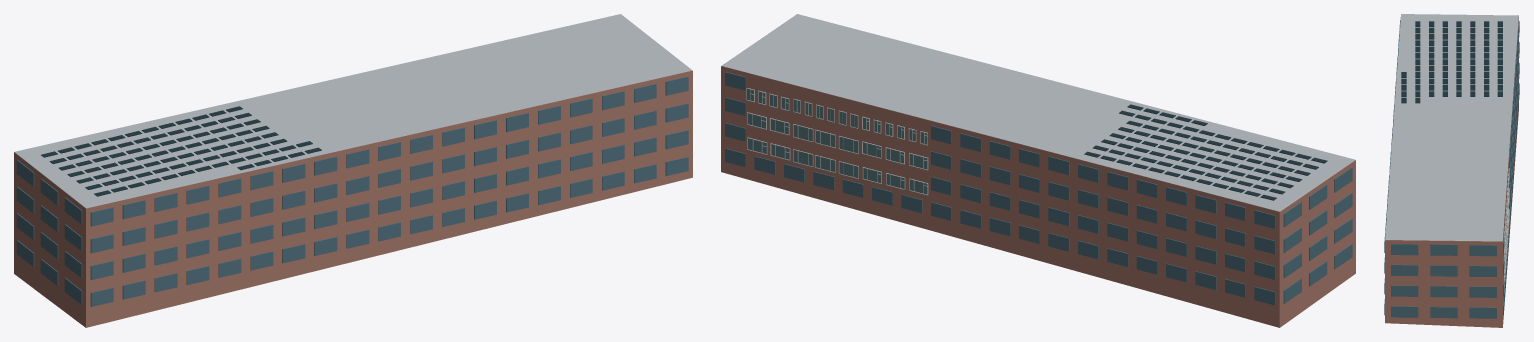
Rendered from fragments.glb.
The picture shows the model from 3 angles, left to right: view 1: azimuth 30°, elevation 25°; view 2: azimuth 150°, elevation 25°; view 3: azimuth 270°, elevation 25°; orthographic projection. The views are drawn at different scales.
Parts seen in each view (by area): view 1: SM_468931887_Fragment_023, SM_468931887_Fragment_003, SM_468931887_Fragment_024, SM_468931887_Fragment_035, SM_468931887_Fragment_028, SM_468931887_Fragment_006, SM_468931887_Fragment_013, SM_468931887_Fragment_018, SM_468931887_Fragment_011, SM_468931887_Fragment_012, SM_468931887_Fragment_038, SM_468931887_Fragment_039 (+27 smaller); view 2: SM_468931887_Fragment_004, SM_468931887_Fragment_021, SM_468931887_Fragment_043, SM_468931887_Fragment_025, SM_468931887_Fragment_016, SM_468931887_Fragment_049, SM_468931887_Fragment_051, SM_468931887_Fragment_056, SM_468931887_Fragment_033, SM_468931887_Fragment_055, SM_468931887_Fragment_002, SM_468931887_Fragment_041 (+28 smaller); view 3: SM_468931887_Fragment_031, SM_468931887_Fragment_058, SM_468931887_Fragment_014, SM_468931887_Fragment_013, SM_468931887_Fragment_001, SM_468931887_Fragment_019, SM_468931887_Fragment_050, SM_468931887_Fragment_043, SM_468931887_Fragment_020, SM_468931887_Fragment_006, SM_468931887_Fragment_025, SM_468931887_Fragment_011 (+21 smaller).
Part boxes in pixels (<box>): SM_468931887_Fragment_023: <box>64,179,157,279</box>; SM_468931887_Fragment_003: <box>413,93,518,186</box>; SM_468931887_Fragment_024: <box>499,89,592,189</box>; SM_468931887_Fragment_035: <box>264,179,347,282</box>; SM_468931887_Fragment_028: <box>299,119,387,221</box>; SM_468931887_Fragment_006: <box>554,56,656,136</box>; SM_468931887_Fragment_013: <box>200,128,315,204</box>; SM_468931887_Fragment_018: <box>67,253,177,327</box>; SM_468931887_Fragment_011: <box>133,148,246,216</box>; SM_468931887_Fragment_012: <box>369,174,464,252</box>; SM_468931887_Fragment_038: <box>355,107,438,187</box>; SM_468931887_Fragment_039: <box>210,175,277,270</box>; SM_468931887_Fragment_004: <box>1097,147,1181,249</box>; SM_468931887_Fragment_021: <box>1194,178,1287,260</box>; SM_468931887_Fragment_043: <box>768,55,864,122</box>; SM_468931887_Fragment_025: <box>1048,123,1139,221</box>; SM_468931887_Fragment_016: <box>989,126,1069,194</box>; SM_468931887_Fragment_049: <box>931,124,1010,205</box>; SM_468931887_Fragment_051: <box>1152,174,1218,264</box>; SM_468931887_Fragment_056: <box>950,186,1039,259</box>; SM_468931887_Fragment_033: <box>1269,167,1340,252</box>; SM_468931887_Fragment_055: <box>1194,245,1275,317</box>; SM_468931887_Fragment_002: <box>1283,215,1352,305</box>; SM_468931887_Fragment_041: <box>834,92,891,189</box>; SM_468931887_Fragment_031: <box>1384,224,1457,292</box>; SM_468931887_Fragment_058: <box>1385,282,1457,325</box>; SM_468931887_Fragment_014: <box>1447,222,1504,287</box>; SM_468931887_Fragment_013: <box>1394,69,1468,105</box>; SM_468931887_Fragment_001: <box>1448,277,1504,327</box>; SM_468931887_Fragment_019: <box>1408,170,1487,204</box>; SM_468931887_Fragment_050: <box>1430,31,1502,71</box>; SM_468931887_Fragment_043: <box>1442,188,1506,240</box>; SM_468931887_Fragment_020: <box>1434,113,1497,152</box>; SM_468931887_Fragment_006: <box>1385,193,1445,233</box>; SM_468931887_Fragment_025: <box>1446,82,1514,146</box>; SM_468931887_Fragment_011: <box>1396,38,1447,77</box>.
Bounding box in the file's own units: 2.2 × 0.4282 × 0.5509.
